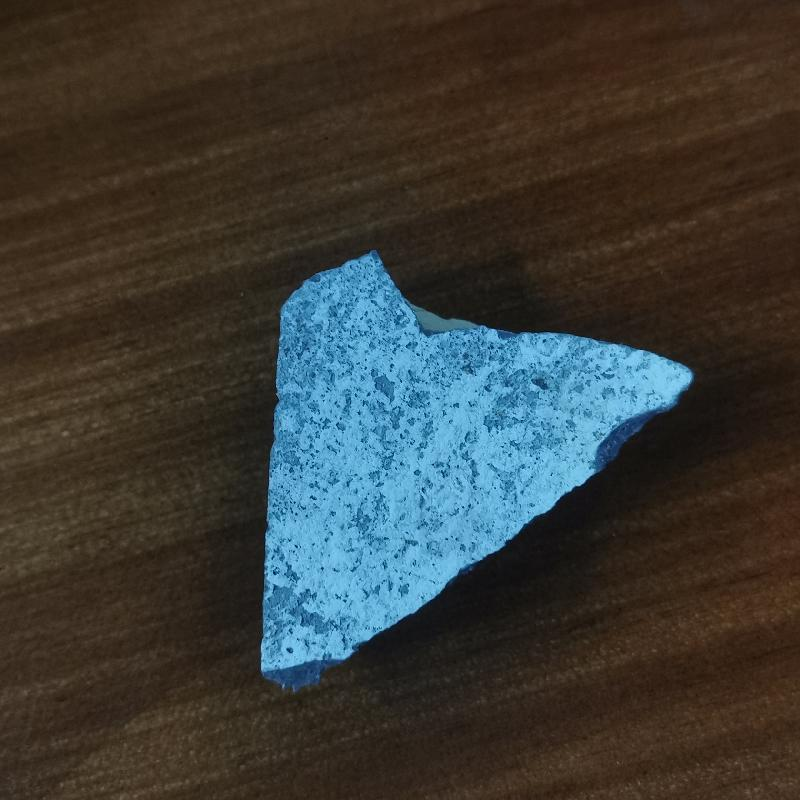tile: (244, 251, 704, 698)
